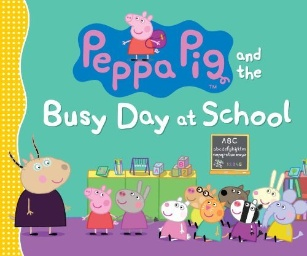Peppa: (81, 184, 117, 236)
